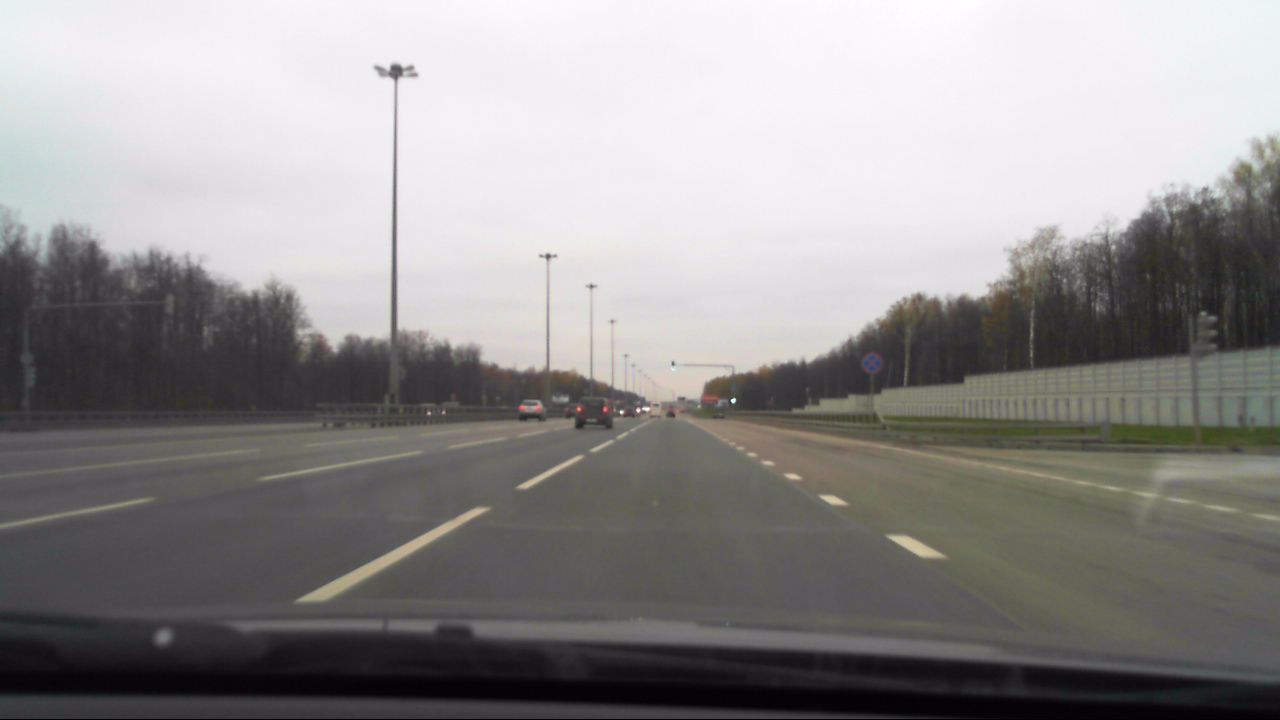No Parking: (859, 351, 880, 374)
